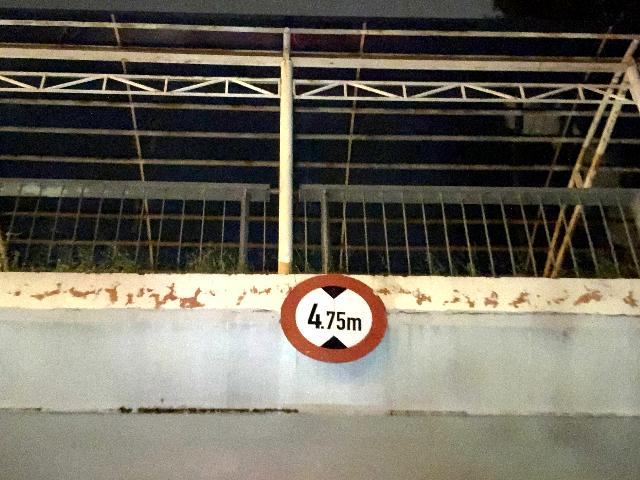han-che-chieu-cao: (280, 273, 389, 363)
